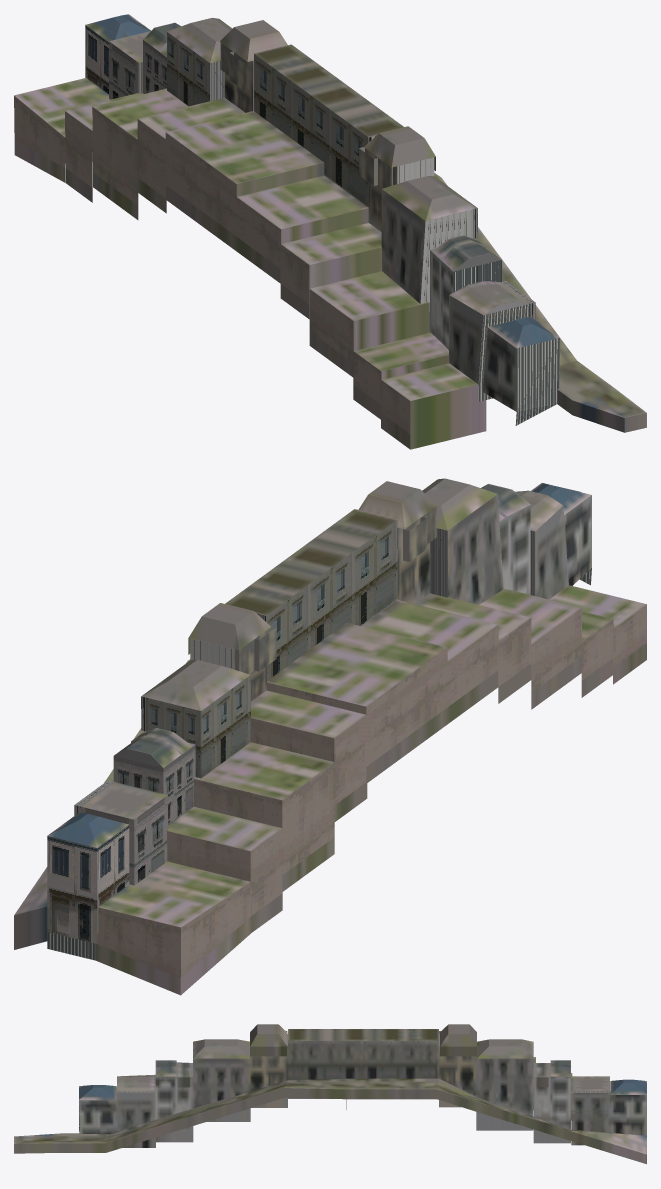
File: lod_new1sfw.obj
The picture shows the model from 3 angles, top to bottom: view 1: azimuth 30°, elevation 25°; view 2: azimuth 150°, elevation 25°; view 3: azimuth 270°, elevation 25°; orthographic projection. The views are drawn at different scales.
Parts seen in each view (by area): view 1: LOD_new1sfw; view 2: LOD_new1sfw; view 3: LOD_new1sfw.
Boxes of the visible parts, x1,y1,x2,y2 form: LOD_new1sfw: [14, 14, 646, 449]; LOD_new1sfw: [14, 478, 646, 995]; LOD_new1sfw: [14, 1024, 646, 1164].
Bounding box in the file's own units: 26.15 × 32.32 × 138.
Materials: 9 (9 with a texture image).
